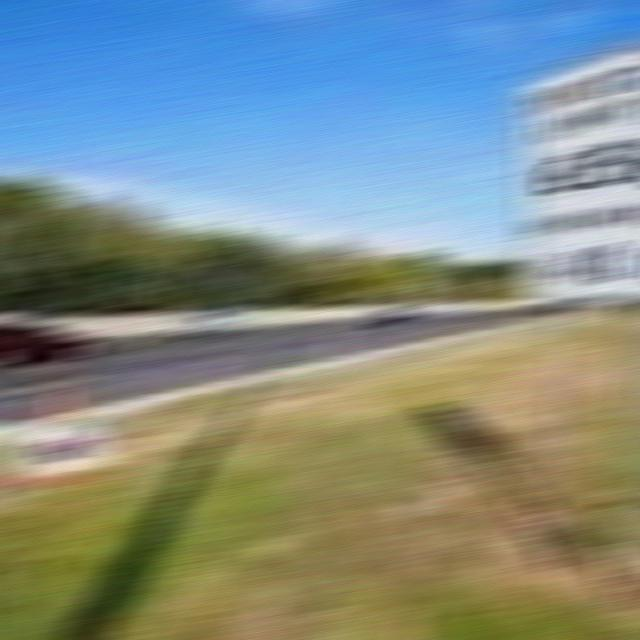speedLimit65: (508, 55, 640, 194)
